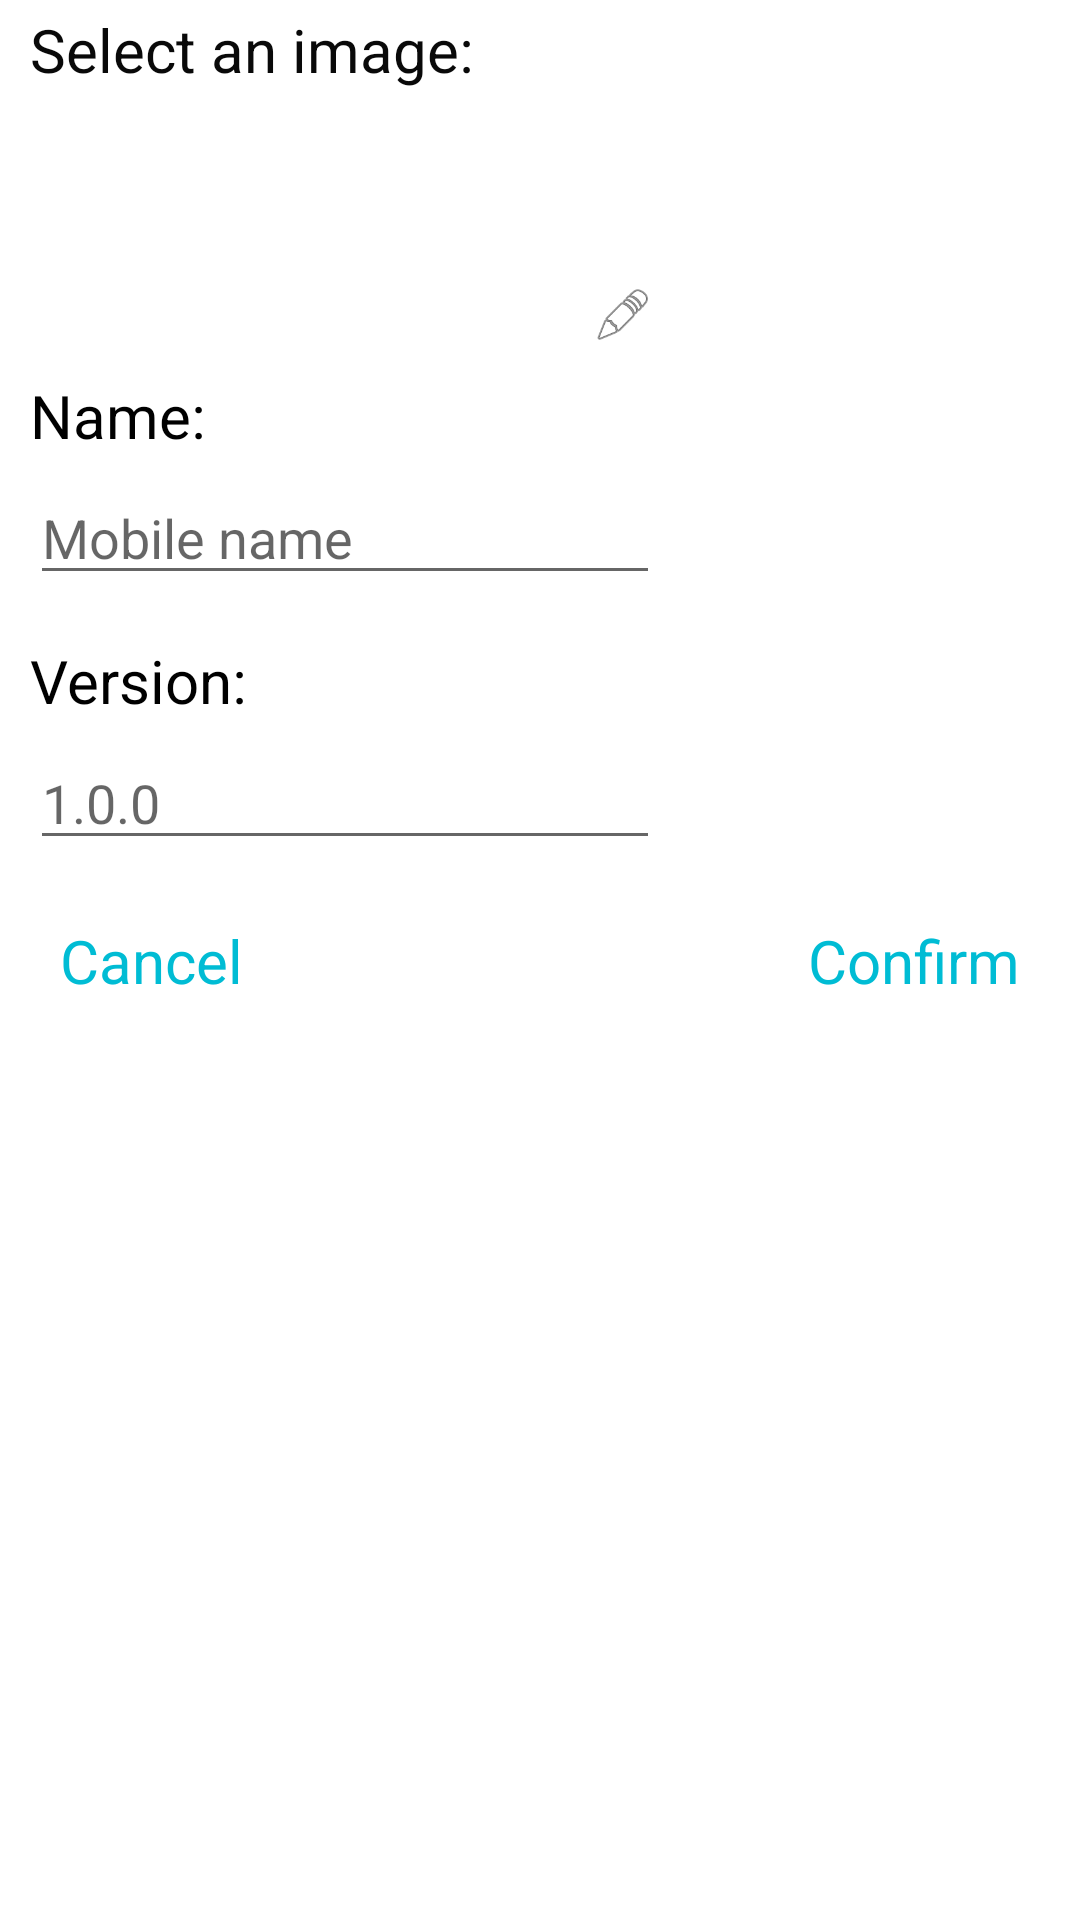

Point at icon controls on the screen. Image size 1080x1920, points as point (x, y).
edit: point (622, 314)
